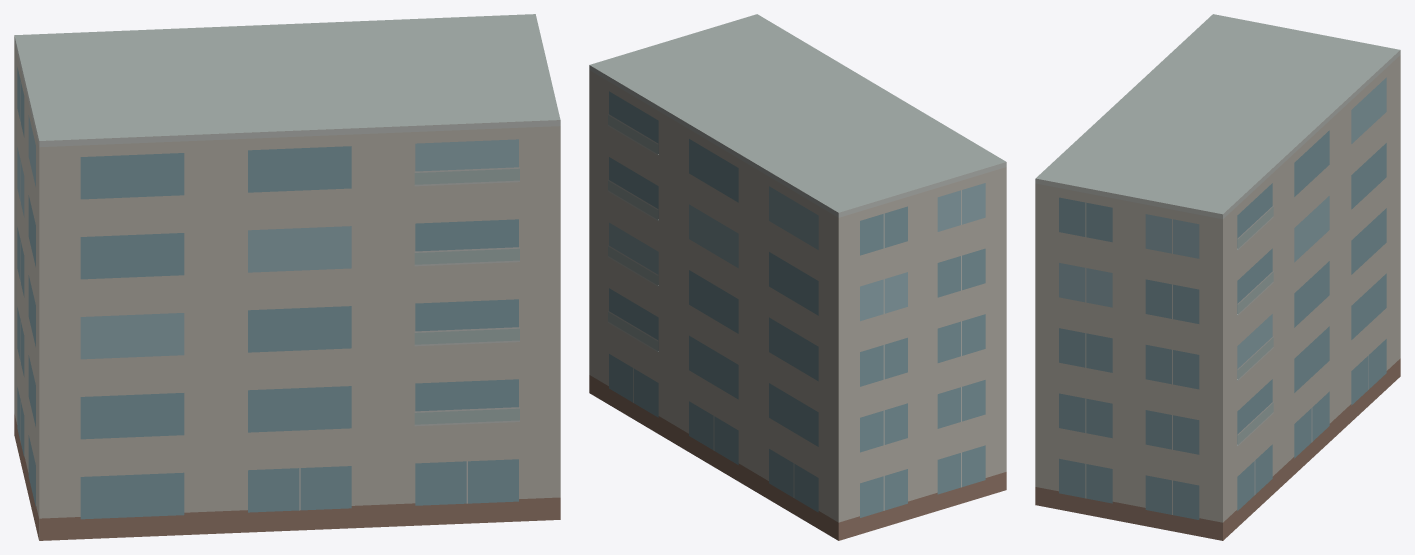
The model's file is survey-upis-32659169.glb.
3 views of the same model, side by side, from view 1: azimuth 30°, elevation 25°; view 2: azimuth 150°, elevation 25°; view 3: azimuth 270°, elevation 25° (orthographic). The views are drawn at different scales.
Visible parts, largest first — view 1: survey-upis-32659169.tmp; view 2: survey-upis-32659169.tmp; view 3: survey-upis-32659169.tmp.
Part boxes in pixels (<box>): survey-upis-32659169.tmp: <box>14,14,560,540</box>; survey-upis-32659169.tmp: <box>589,14,1006,540</box>; survey-upis-32659169.tmp: <box>1035,14,1400,540</box>.
Size of the model in its own units: 20.92 by 15.9 by 16.12.
